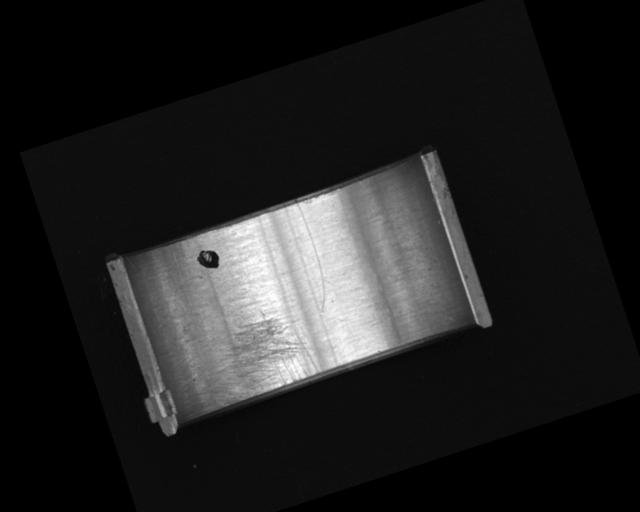blot: (193, 244, 224, 275)
nick: (285, 198, 336, 315)
scratch: (194, 297, 321, 408)
